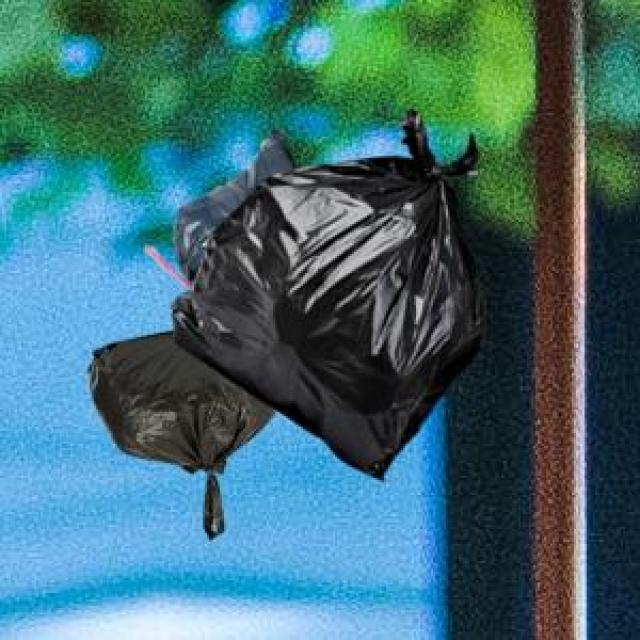miscellaneous trash: (169, 105, 480, 476), (85, 326, 273, 536), (141, 126, 292, 282)
